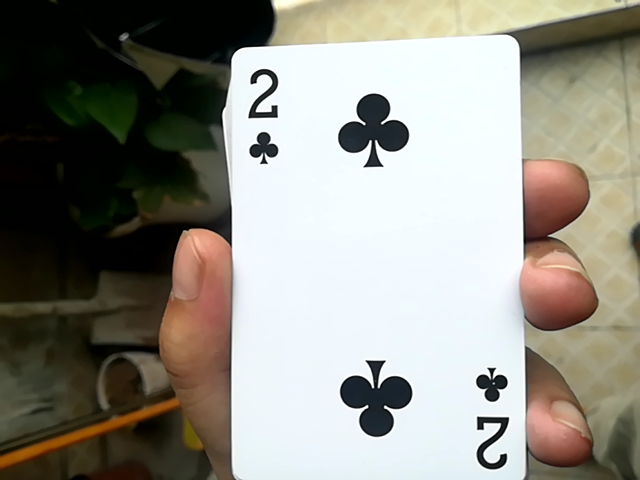mh 2: (210, 30, 528, 480)
